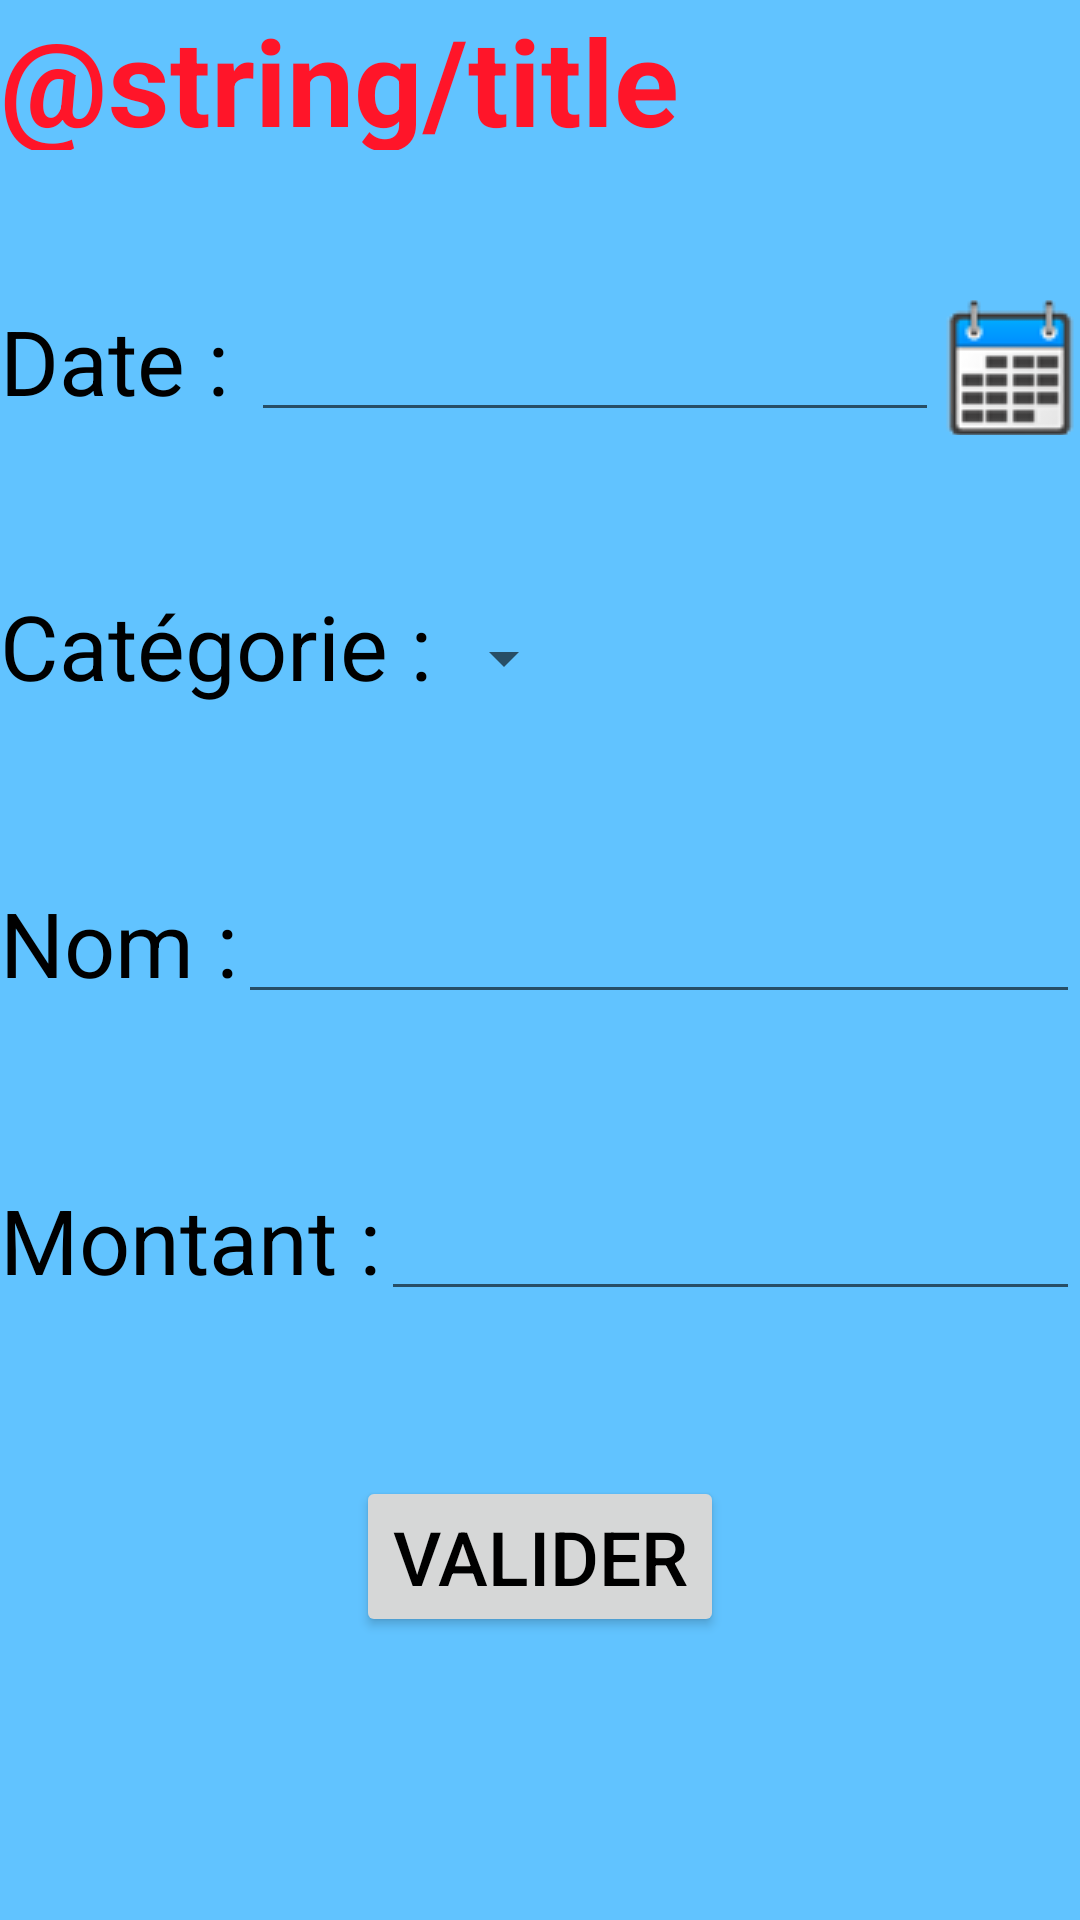

Where icons sit on this 1080 × 1920 app screen, as (x1, y1, x2, y2):
calendar: (948, 300, 1073, 435)
